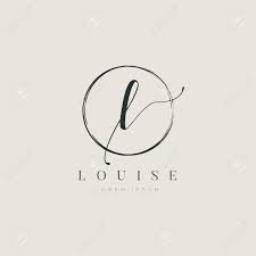e: (168, 168, 180, 186)
i: (135, 168, 143, 184)
l: (72, 164, 90, 188)
o: (94, 166, 110, 182)
s: (148, 168, 162, 184)
u: (116, 169, 128, 181)
